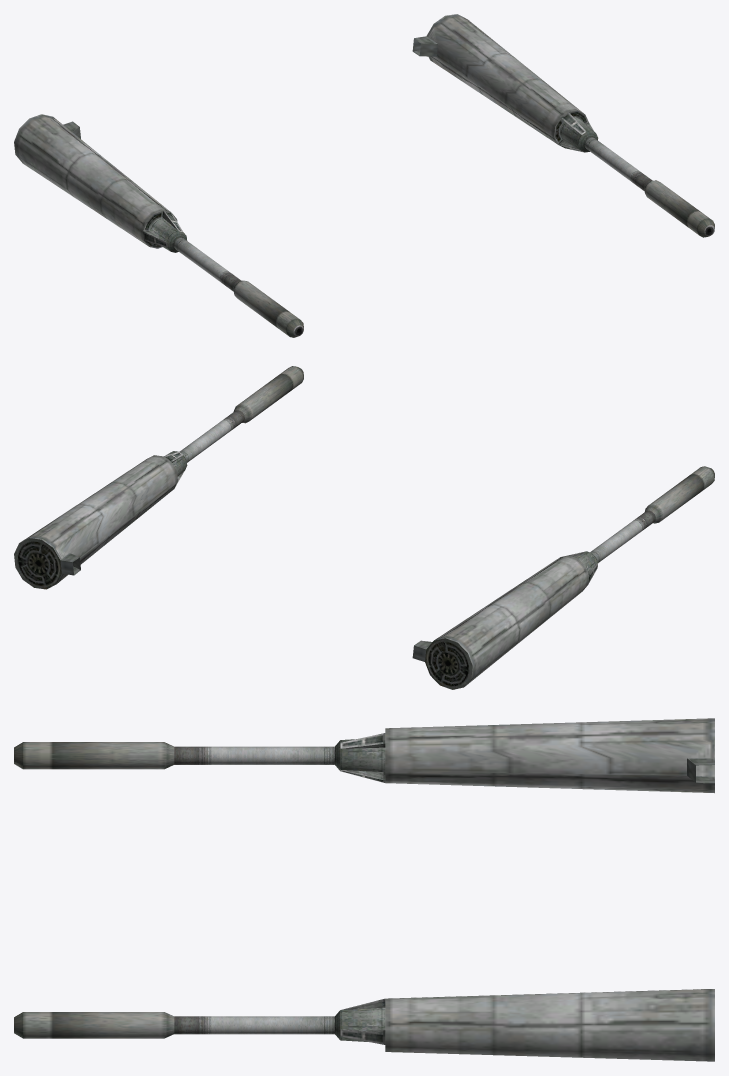
File: hutt_fighter_heavy_weapon1_s05_l0.fbx
3 renders of one model, top to bottom at view 1: azimuth 30°, elevation 25°; view 2: azimuth 150°, elevation 25°; view 3: azimuth 270°, elevation 25°, orthographic. The views are drawn at different scales.
Visible parts, largest first — view 1: mesh_node; view 2: mesh_node; view 3: mesh_node.
Boxes of the visible parts, <box> form: mesh_node: <box>14,14,714,337</box>; mesh_node: <box>14,366,714,689</box>; mesh_node: <box>14,718,714,1061</box>.
Size of the model in its own units: 2.66 by 0.2768 by 2.62.
1 material, 1 textured.
